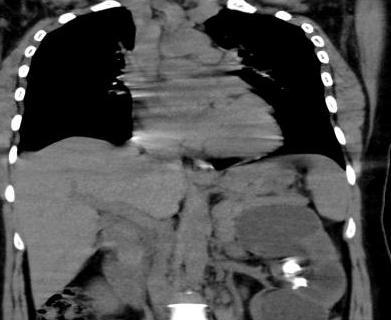Tas_Var: (282, 259, 304, 276), (291, 276, 309, 292)
